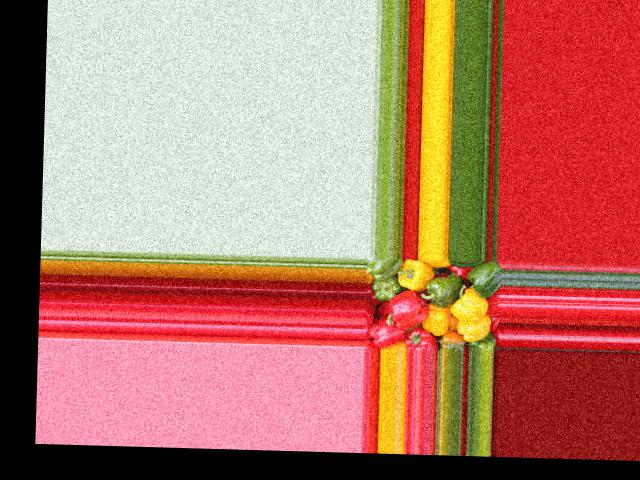bell_pepper: (464, 335, 495, 351)
